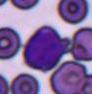L: (23, 26, 66, 72)
